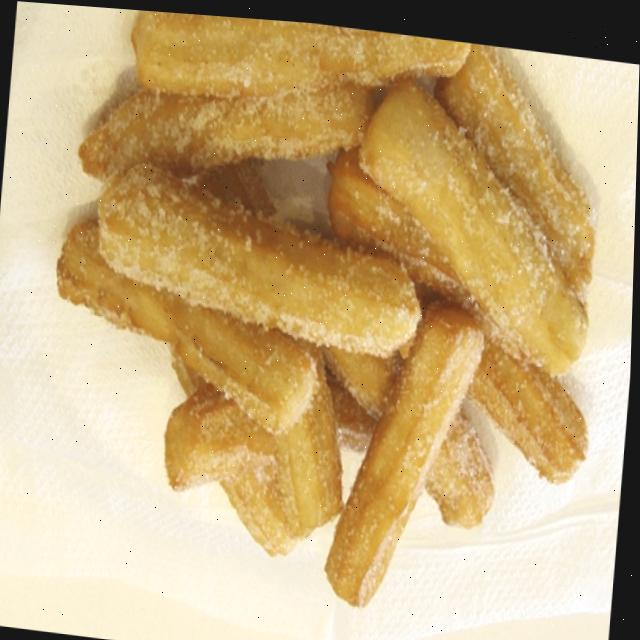炸货点心: (17, 2, 640, 640)
